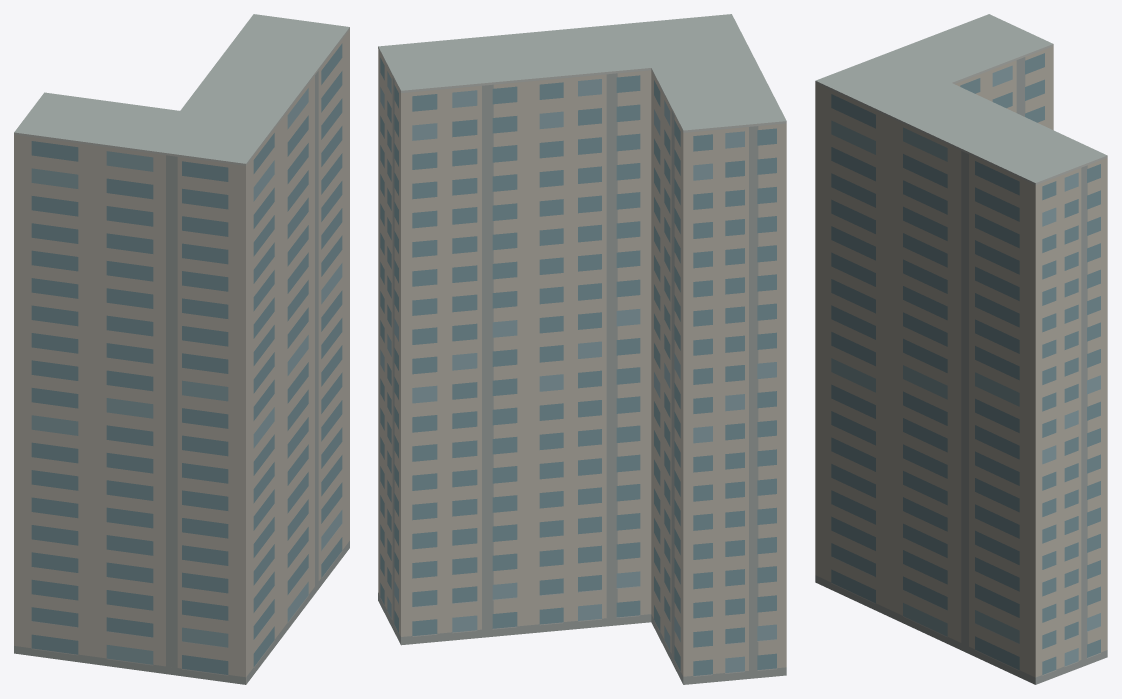
File: residential-284b95c2-44e3-46f0-8186-05b5b1106bf3.glb
The picture shows the model from 3 angles, left to right: view 1: azimuth 30°, elevation 25°; view 2: azimuth 150°, elevation 25°; view 3: azimuth 270°, elevation 25°; orthographic projection. The views are drawn at different scales.
Visible parts, largest first — view 1: residential-284b95c2-44e3-46f0-8186-05b5b1106bf3.tmp; view 2: residential-284b95c2-44e3-46f0-8186-05b5b1106bf3.tmp; view 3: residential-284b95c2-44e3-46f0-8186-05b5b1106bf3.tmp.
Boxes of the visible parts, x1,y1,x2,y2 form: residential-284b95c2-44e3-46f0-8186-05b5b1106bf3.tmp: [14, 14, 349, 684]; residential-284b95c2-44e3-46f0-8186-05b5b1106bf3.tmp: [378, 14, 786, 684]; residential-284b95c2-44e3-46f0-8186-05b5b1106bf3.tmp: [815, 14, 1107, 684].
Bounding box in the file's own units: 41.21 × 57 × 30.09.
